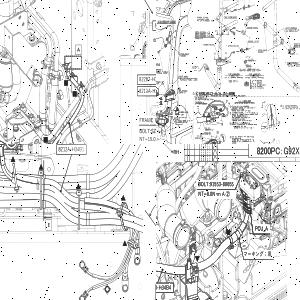PartNumber: (58, 146, 84, 152), (210, 181, 234, 187), (138, 87, 156, 94), (139, 75, 156, 81), (156, 284, 172, 290), (150, 127, 156, 134), (197, 16, 208, 18), (247, 26, 258, 28), (248, 40, 259, 42), (178, 90, 188, 92), (228, 44, 238, 46), (158, 20, 167, 22), (179, 76, 188, 78), (180, 53, 189, 55), (195, 36, 204, 38), (195, 34, 204, 36), (195, 31, 204, 33), (258, 50, 267, 52), (195, 32, 203, 34), (293, 43, 300, 45), (294, 44, 300, 46), (158, 22, 167, 23), (287, 62, 296, 63), (156, 68, 160, 70), (156, 81, 160, 83)
